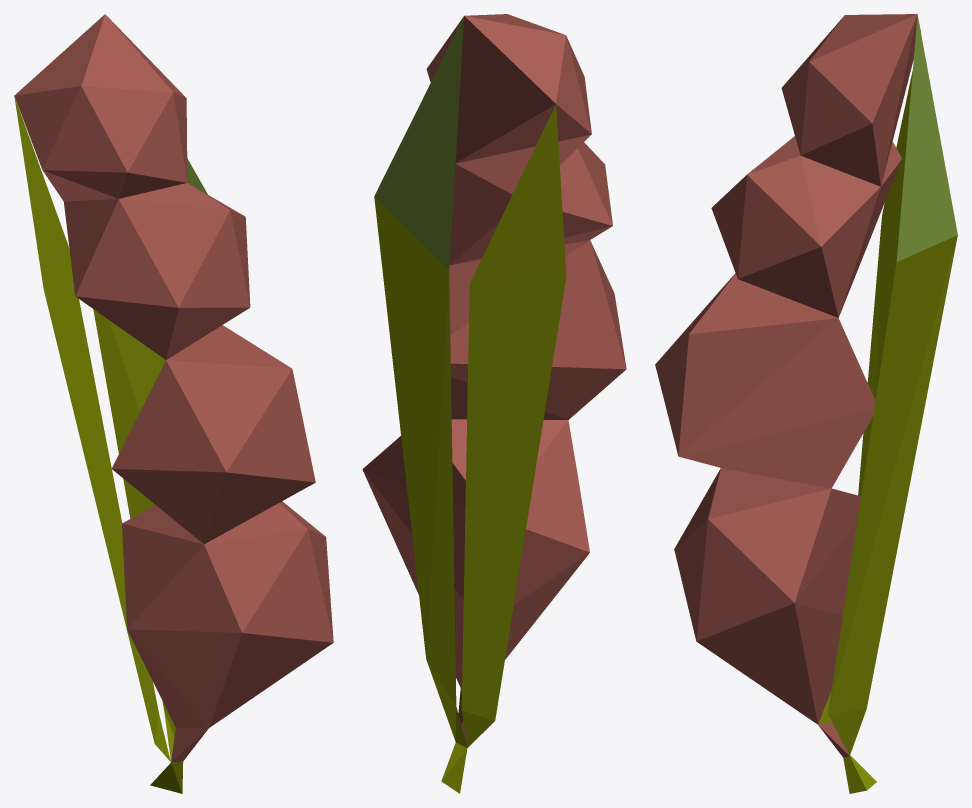
The model's file is Beans.fbx.
3 renders of one model, left to right at view 1: azimuth 30°, elevation 25°; view 2: azimuth 150°, elevation 25°; view 3: azimuth 270°, elevation 25°, orthographic. The views are drawn at different scales.
Visible parts, largest first — view 1: Beans_5; view 2: Beans_5; view 3: Beans_5.
Part boxes in pixels (left/top/right/bottom): Beans_5: left=14, top=14, right=333, bottom=793; Beans_5: left=362, top=14, right=626, bottom=793; Beans_5: left=655, top=14, right=957, bottom=793.
Bounding box in the file's own units: 8.54 × 24.87 × 8.99.
